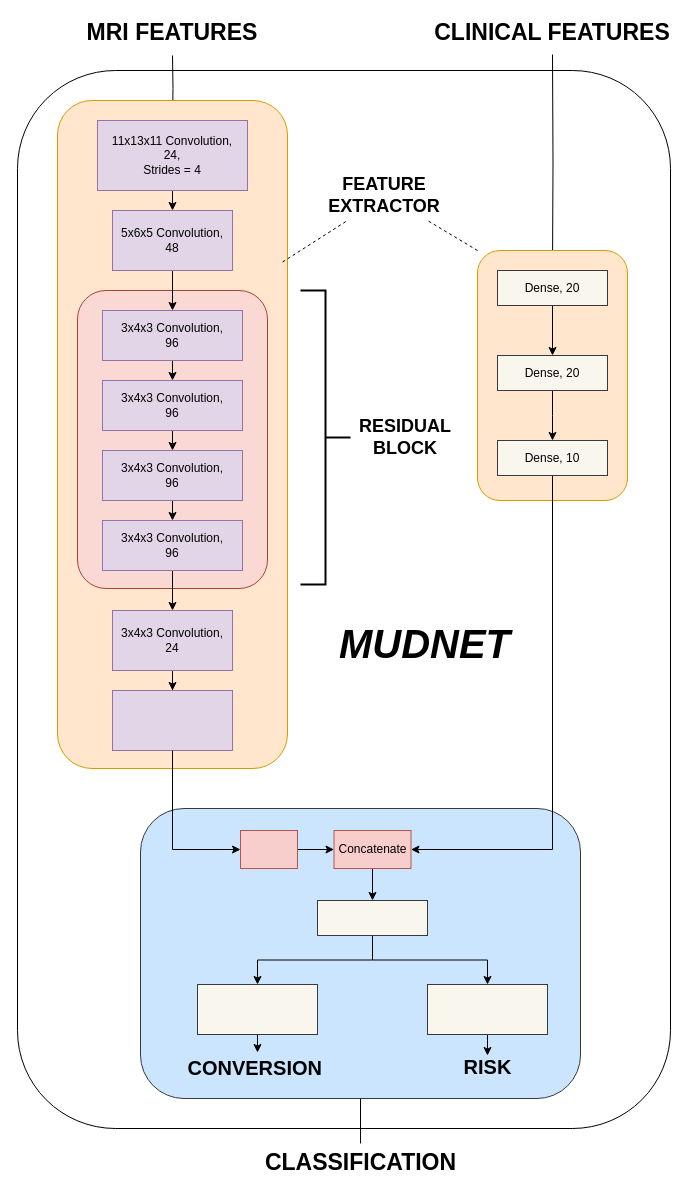
The diagram is 690 pixels wide and 1198 high, and some of its shapes have lost their labels. The box of each missing label's shape, as (x1, y1, x2, y2) in pixels:
3x4x3 Convolution, 8: (112, 690, 232, 750)
Dense, 1, Sigmoid: (196, 984, 318, 1034)
Dense, 3, Softmax: (426, 984, 548, 1034)
Dense, 4: (316, 900, 428, 936)
Flatten: (240, 830, 298, 868)
